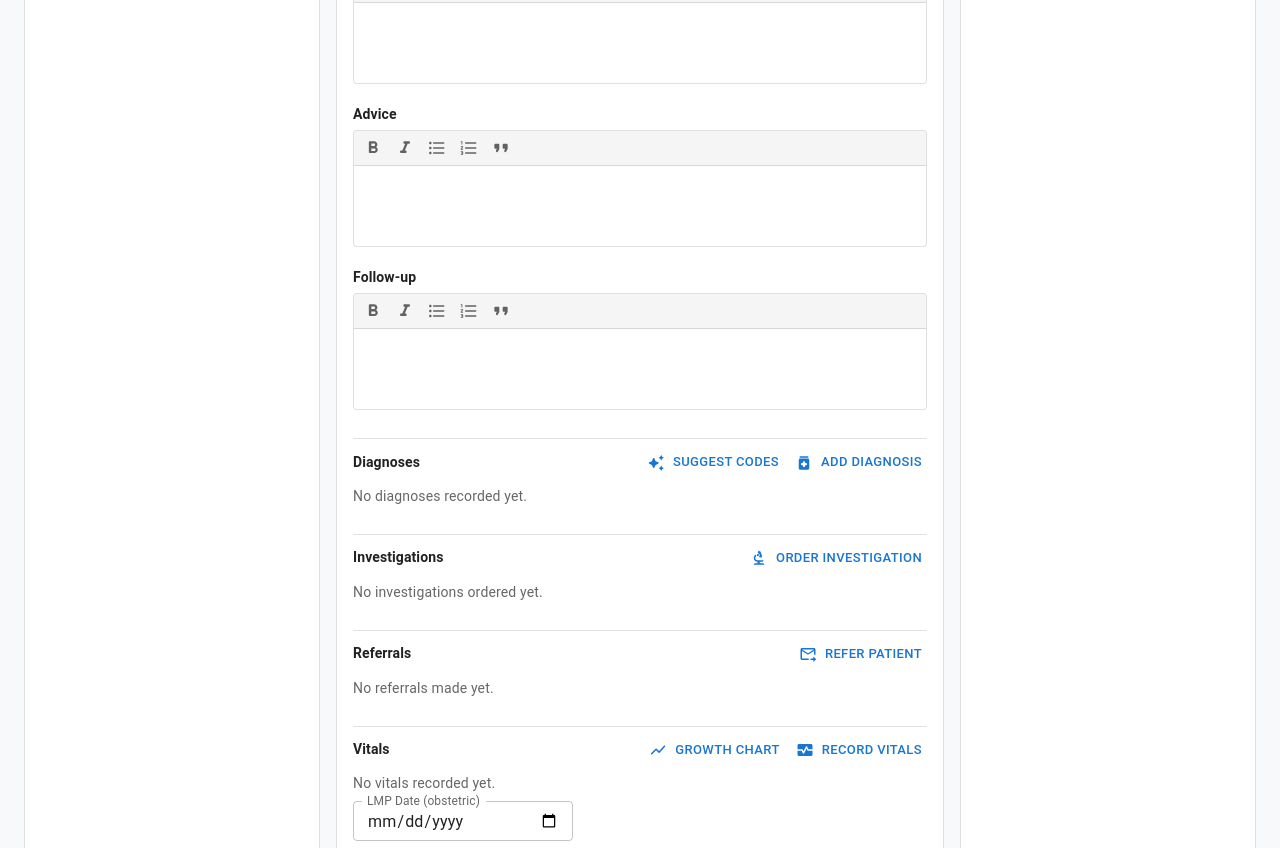
it: EncounterWorkspace — diagnoses + save-as-template (A-5/A-6) › searches real codes as the clinician types and lets them select one
(page scrolled)
Expected: the text "No diagnoses recorded yet." is shown, [353,488,527,504]
Step 1. Click the button "Add Diagnosis" → (860, 463), box [792,447,927,478]
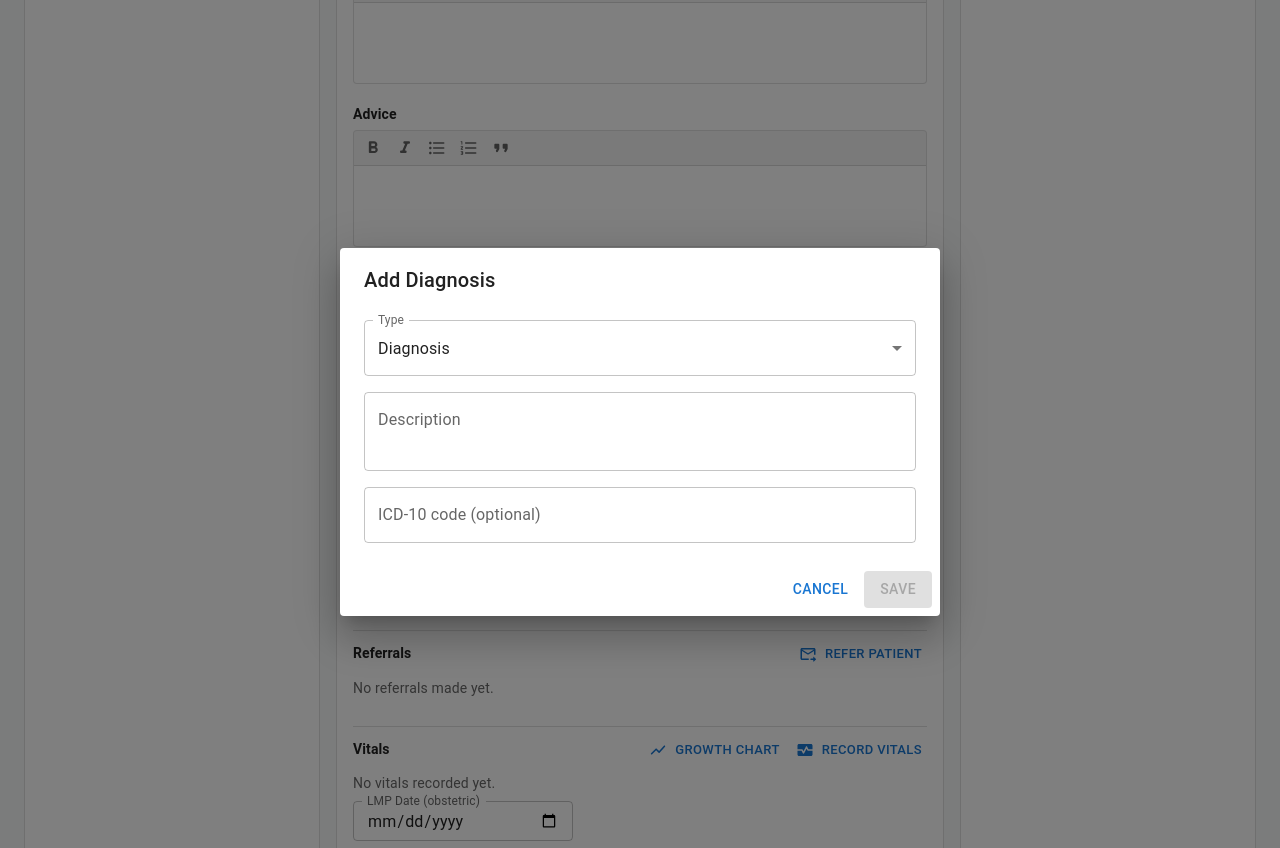
Step 2. Type "URI" into the text box labelled "Description" → (640, 432), box [378,409,902,455]
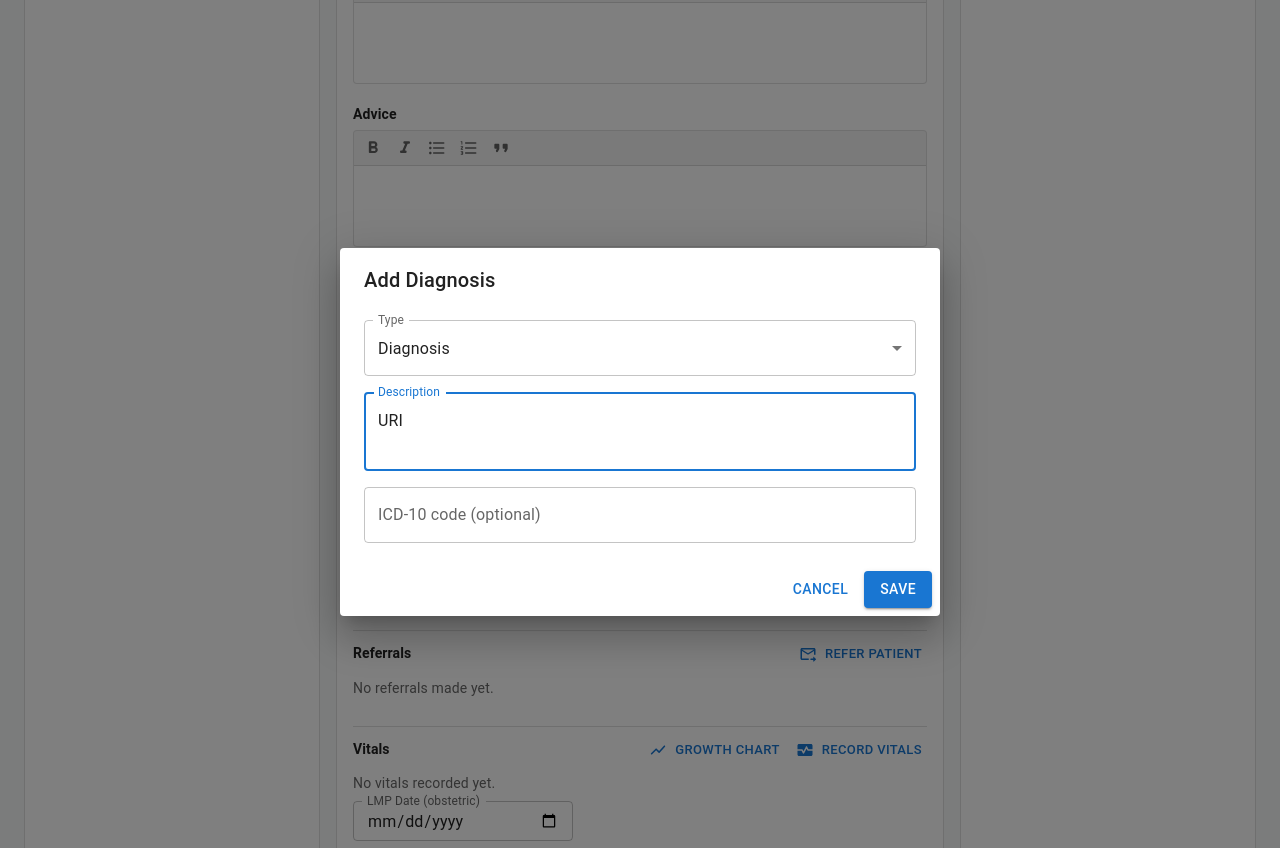
Step 3. Type "J0" into the dropdown labelled "ICD-10 code (optional)" → (640, 515), box [373,496,907,534]
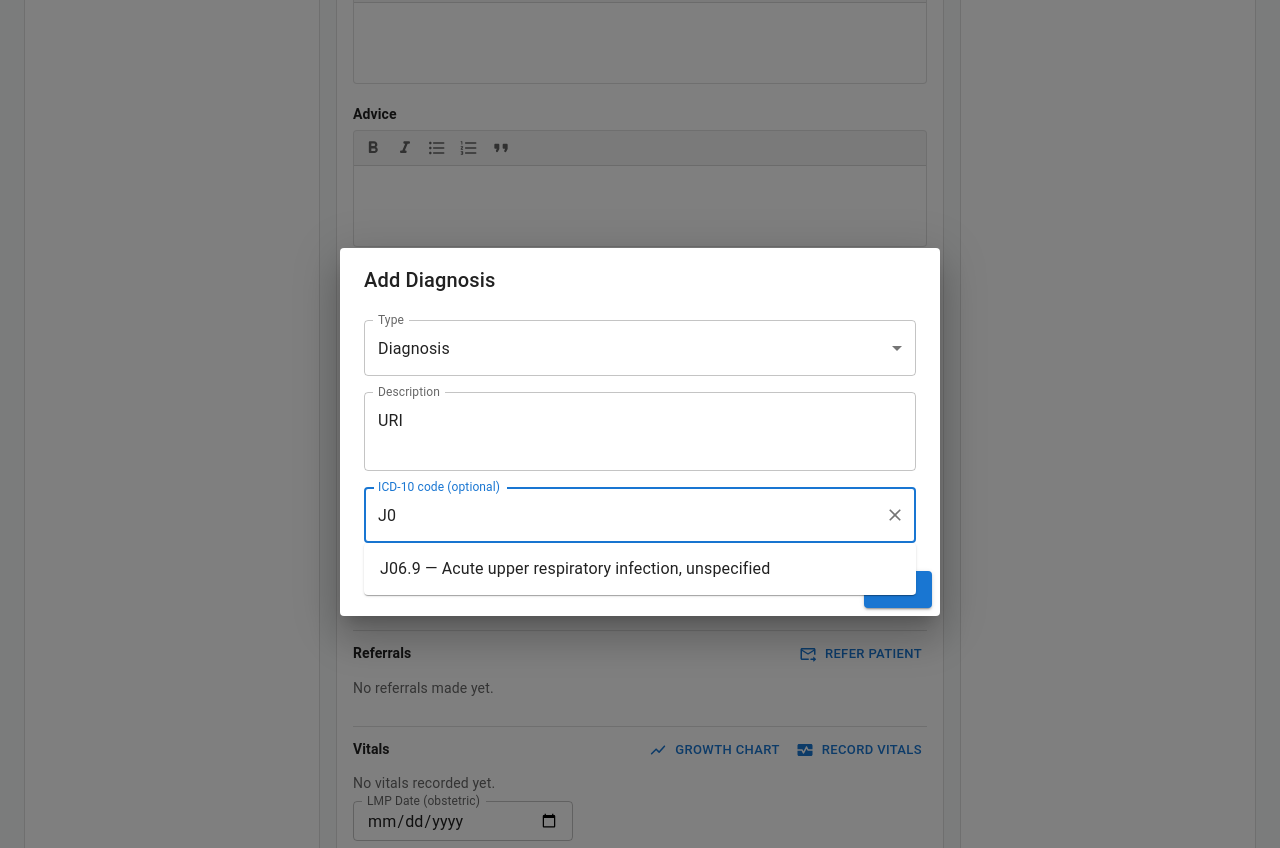
Step 4. Click the option "J06.9 — Acute upper respiratory infection, unspecified" → (575, 568), box [380,559,770,578]
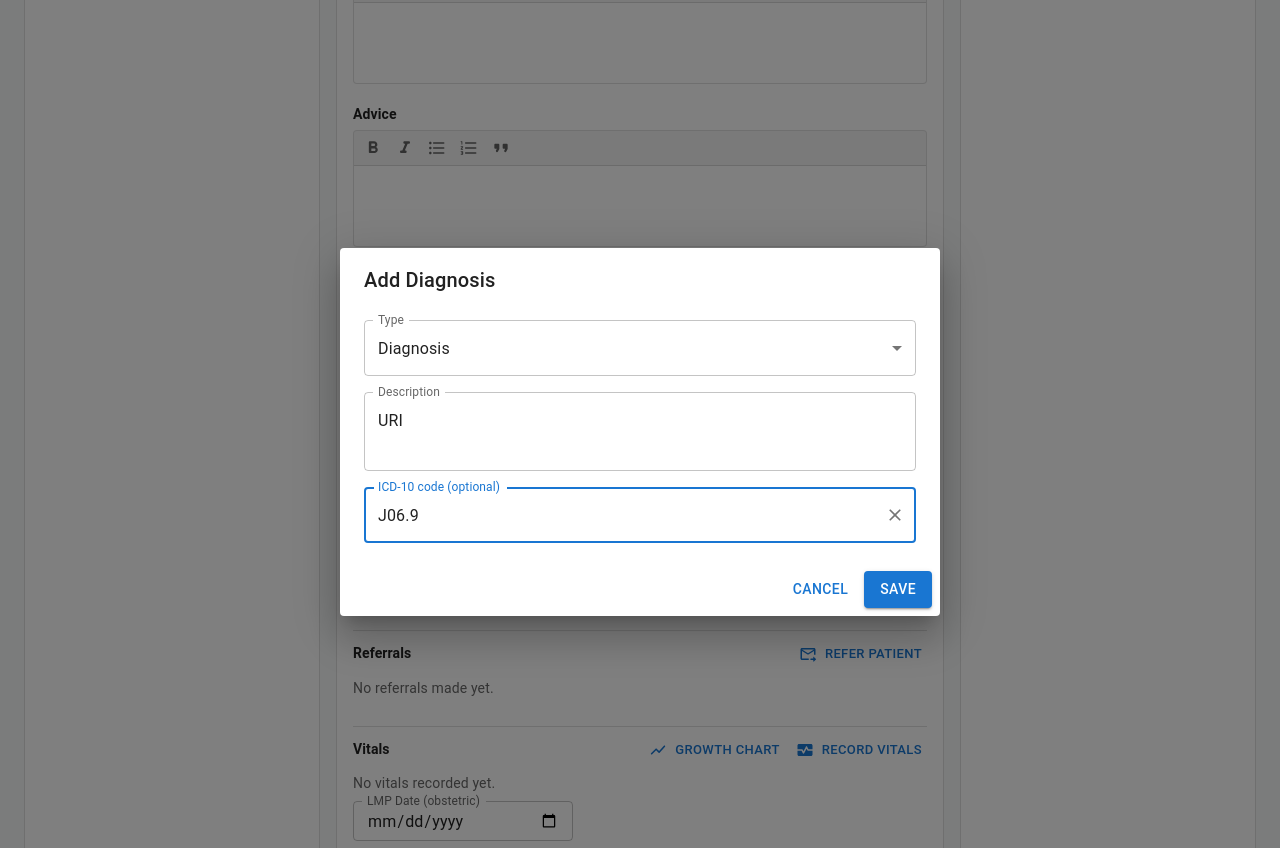
Step 5. Click the button "Save" → (898, 590), box [864,571,932,608]
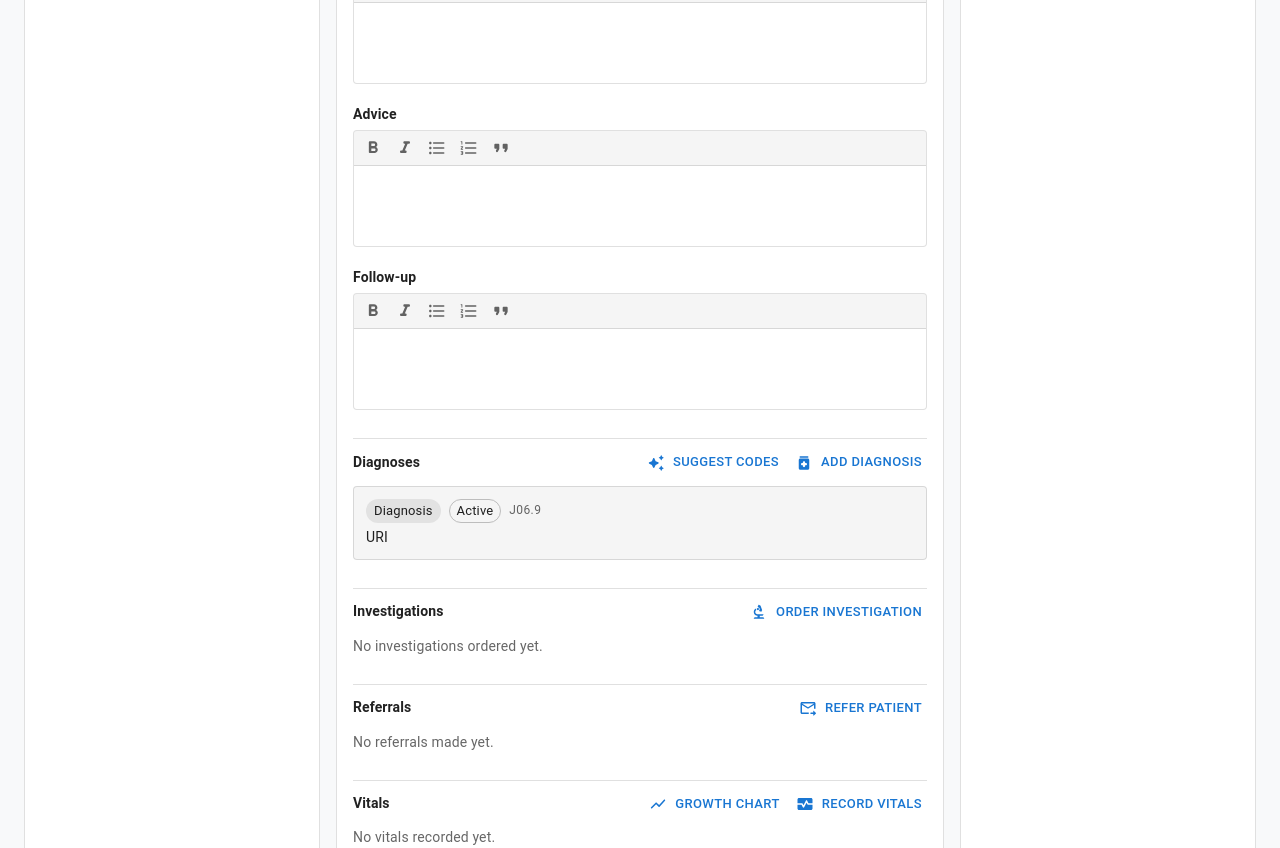
Result: the text "URI" is shown at [366,529,388,545]
Result: the text "J06.9" is shown at [509,501,541,521]
